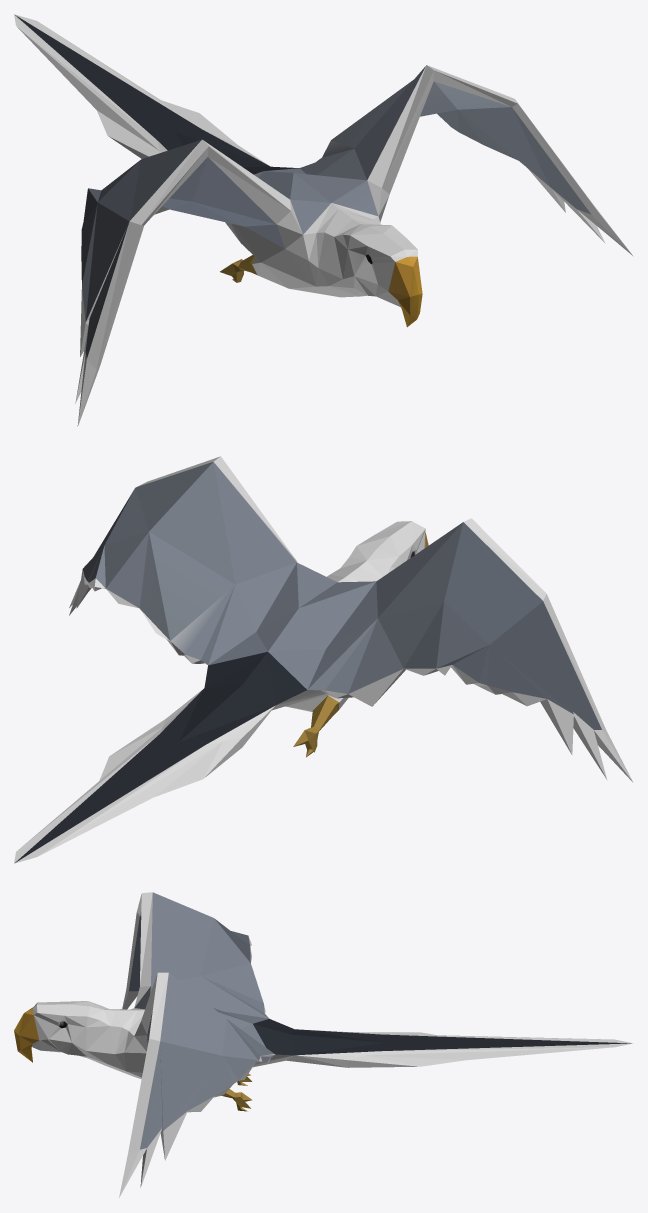
Rendered from Gull.glb.
3 views of the same model, one above another, from view 1: azimuth 30°, elevation 25°; view 2: azimuth 150°, elevation 25°; view 3: azimuth 270°, elevation 25° (orthographic). The views are drawn at different scales.
Parts seen in each view (by area): view 1: Mesh_0; view 2: Mesh_0; view 3: Mesh_0.
Boxes of the visible parts, x1=… form: Mesh_0: x1=14, y1=14, x2=633, y2=426; Mesh_0: x1=14, y1=456, x2=633, y2=863; Mesh_0: x1=14, y1=892, x2=633, y2=1197.
Size of the model in its own units: 79.5 by 33.7 by 100.
